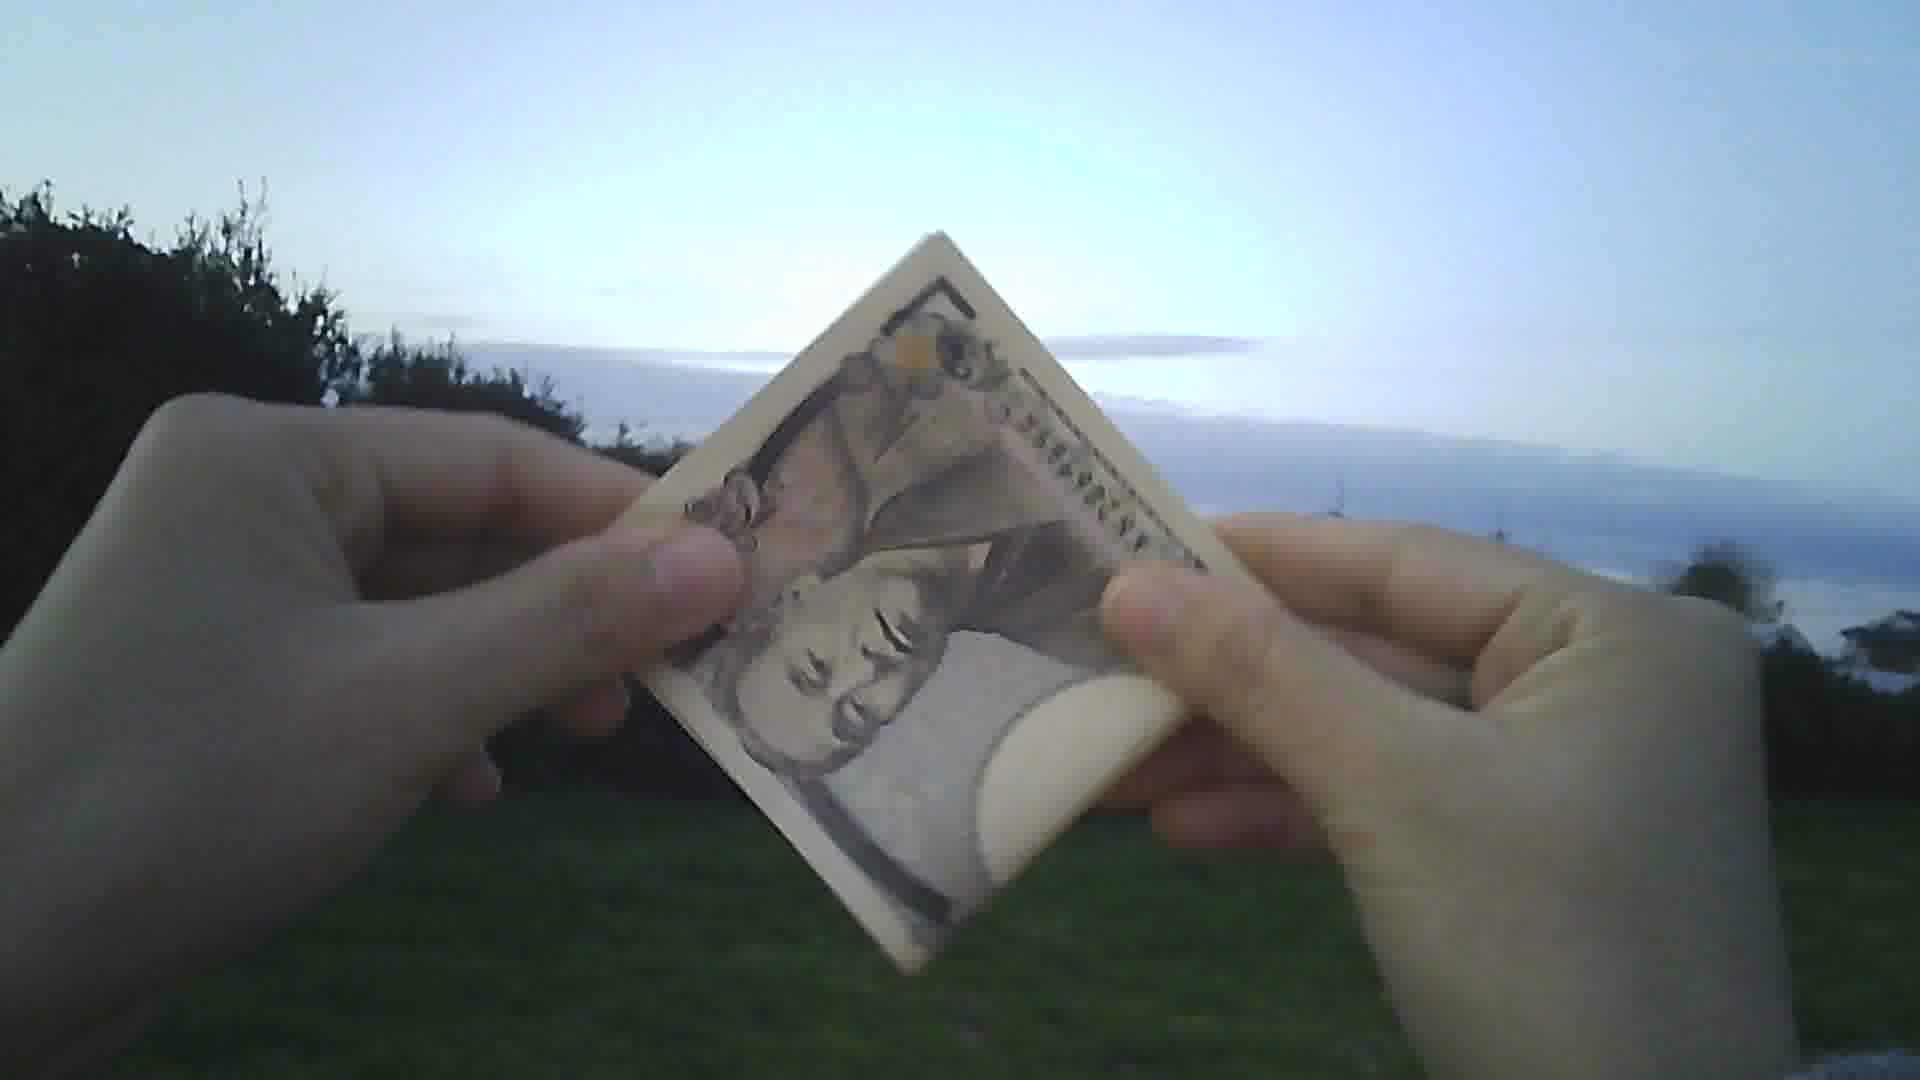10,000 Yen: (574, 247, 1258, 960)
